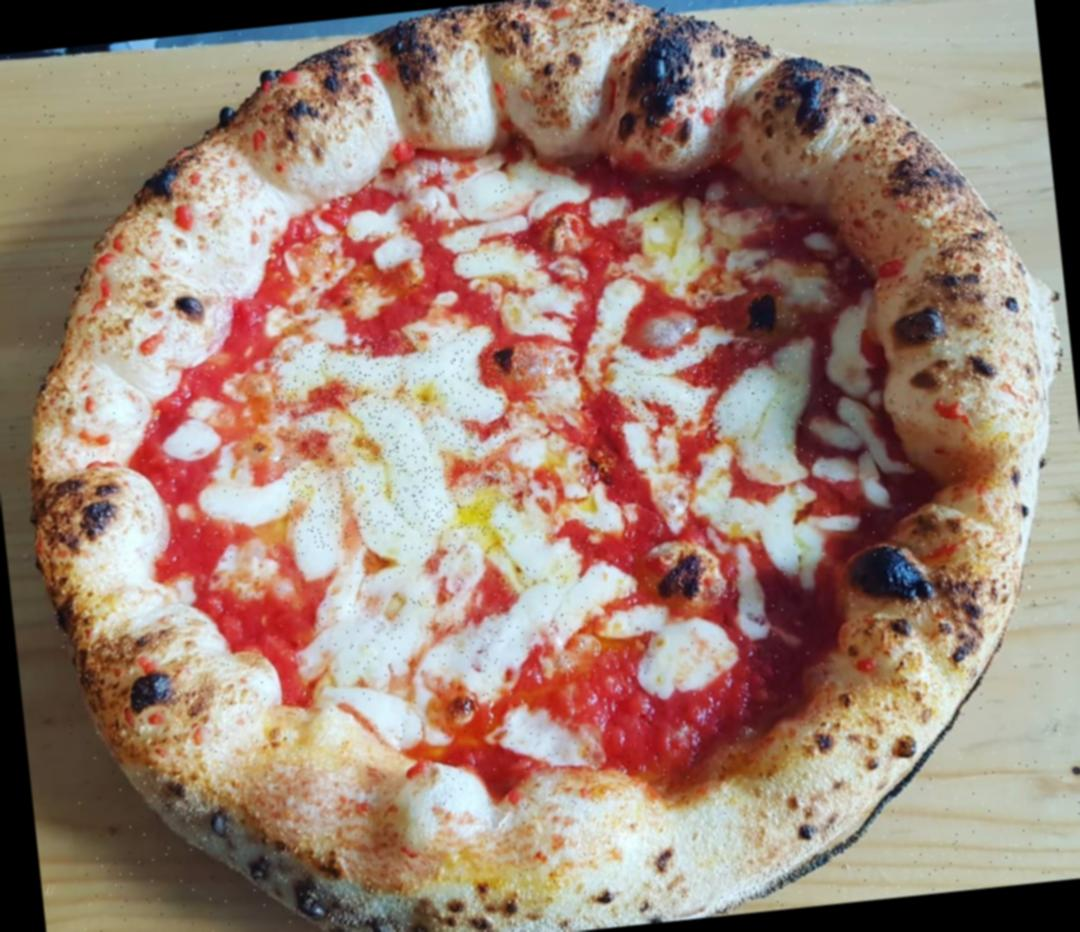Cheese: (270, 324, 519, 561), (308, 521, 604, 700), (449, 156, 585, 319), (704, 334, 826, 482), (608, 338, 726, 439)
Pizza: (0, 0, 1080, 932)
